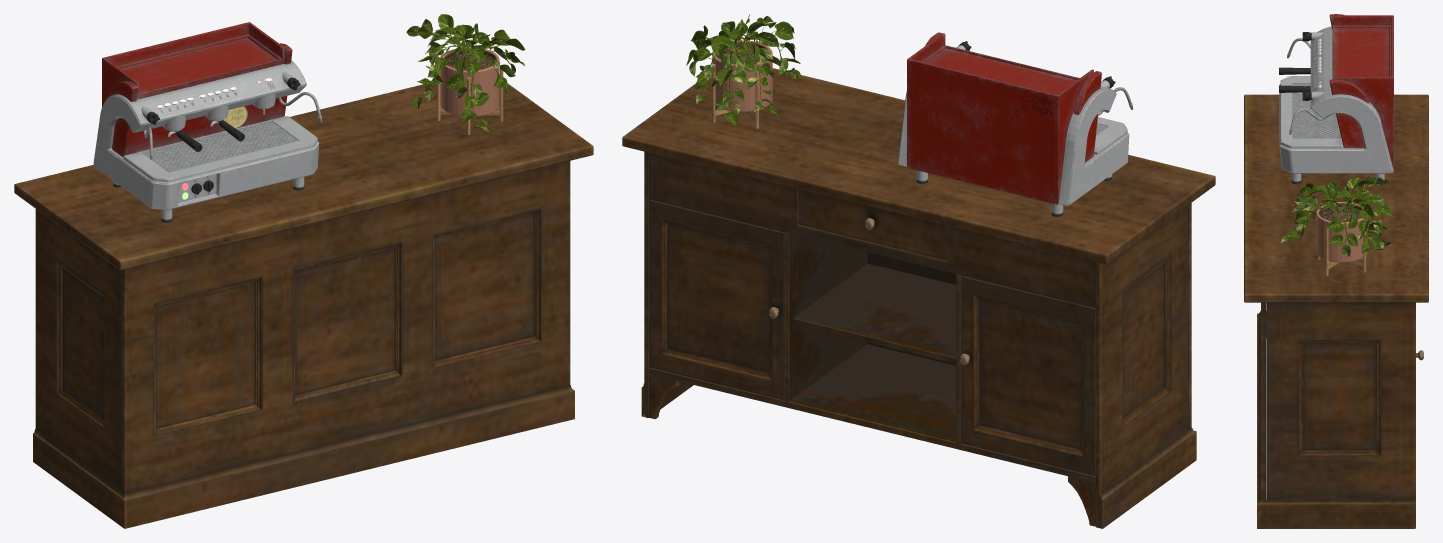
The model's file is coffee_bar.glb.
The picture shows the model from 3 angles, left to right: view 1: azimuth 30°, elevation 25°; view 2: azimuth 150°, elevation 25°; view 3: azimuth 270°, elevation 25°; orthographic projection. The views are drawn at different scales.
Parts seen in each view (by area): view 1: bar_counter_3_n0, espresso_machine_0_n1, espresso_machine_1_n1, espresso_machine_28_n1, pothos_0_n2, espresso_machine_30_n1, pothos_1_n2; view 2: bar_counter_3_n0, espresso_machine_1_n1, pothos_0_n2, espresso_machine_0_n1, pothos_1_n2, espresso_machine_30_n1, espresso_machine_28_n1; view 3: bar_counter_3_n0, espresso_machine_0_n1, espresso_machine_1_n1, pothos_0_n2, espresso_machine_28_n1, pothos_1_n2, espresso_machine_30_n1, espresso_machine_13_n1.
Part boxes in pixels (box(x1,y1,x2,y2)): bar_counter_3_n0: box(14, 84, 593, 528); espresso_machine_0_n1: box(93, 60, 319, 210); espresso_machine_1_n1: box(102, 22, 284, 106); espresso_machine_28_n1: box(123, 116, 317, 182); pothos_0_n2: box(406, 14, 525, 132); espresso_machine_30_n1: box(111, 43, 292, 157); pothos_1_n2: box(437, 47, 503, 134); bar_counter_3_n0: box(622, 68, 1215, 528); espresso_machine_1_n1: box(907, 33, 1093, 204); pothos_0_n2: box(686, 14, 800, 125); espresso_machine_0_n1: box(898, 86, 1129, 206); pothos_1_n2: box(712, 40, 772, 128); espresso_machine_30_n1: box(925, 32, 1101, 162); espresso_machine_28_n1: box(1094, 117, 1127, 154); bar_counter_3_n0: box(1244, 94, 1428, 528); espresso_machine_0_n1: box(1279, 26, 1393, 173); espresso_machine_1_n1: box(1332, 15, 1393, 169); pothos_0_n2: box(1280, 175, 1392, 257); espresso_machine_28_n1: box(1280, 76, 1342, 148); pothos_1_n2: box(1316, 202, 1367, 276); espresso_machine_30_n1: box(1329, 14, 1368, 148); espresso_machine_13_n1: box(1279, 67, 1310, 74).
Size of the model in its own units: 1.8 by 1.45 by 0.7.
Materials: 5 (5 with a texture image).
